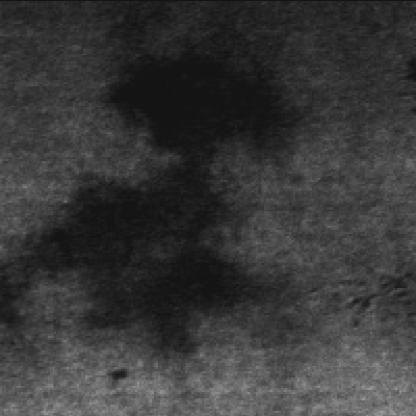patches: (19, 165, 243, 346), (95, 34, 288, 152)
